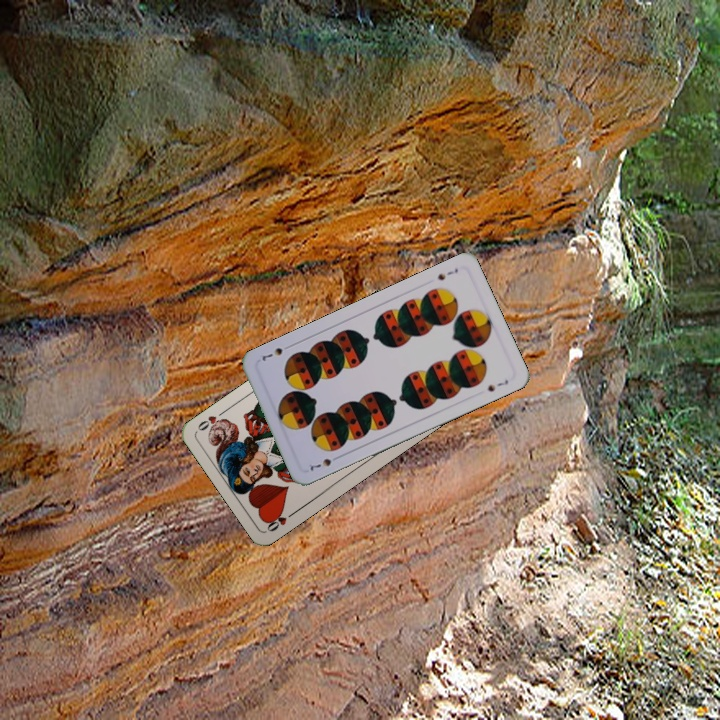HO: (262, 506, 299, 534)
S7: (306, 452, 343, 473), (434, 264, 461, 283)
